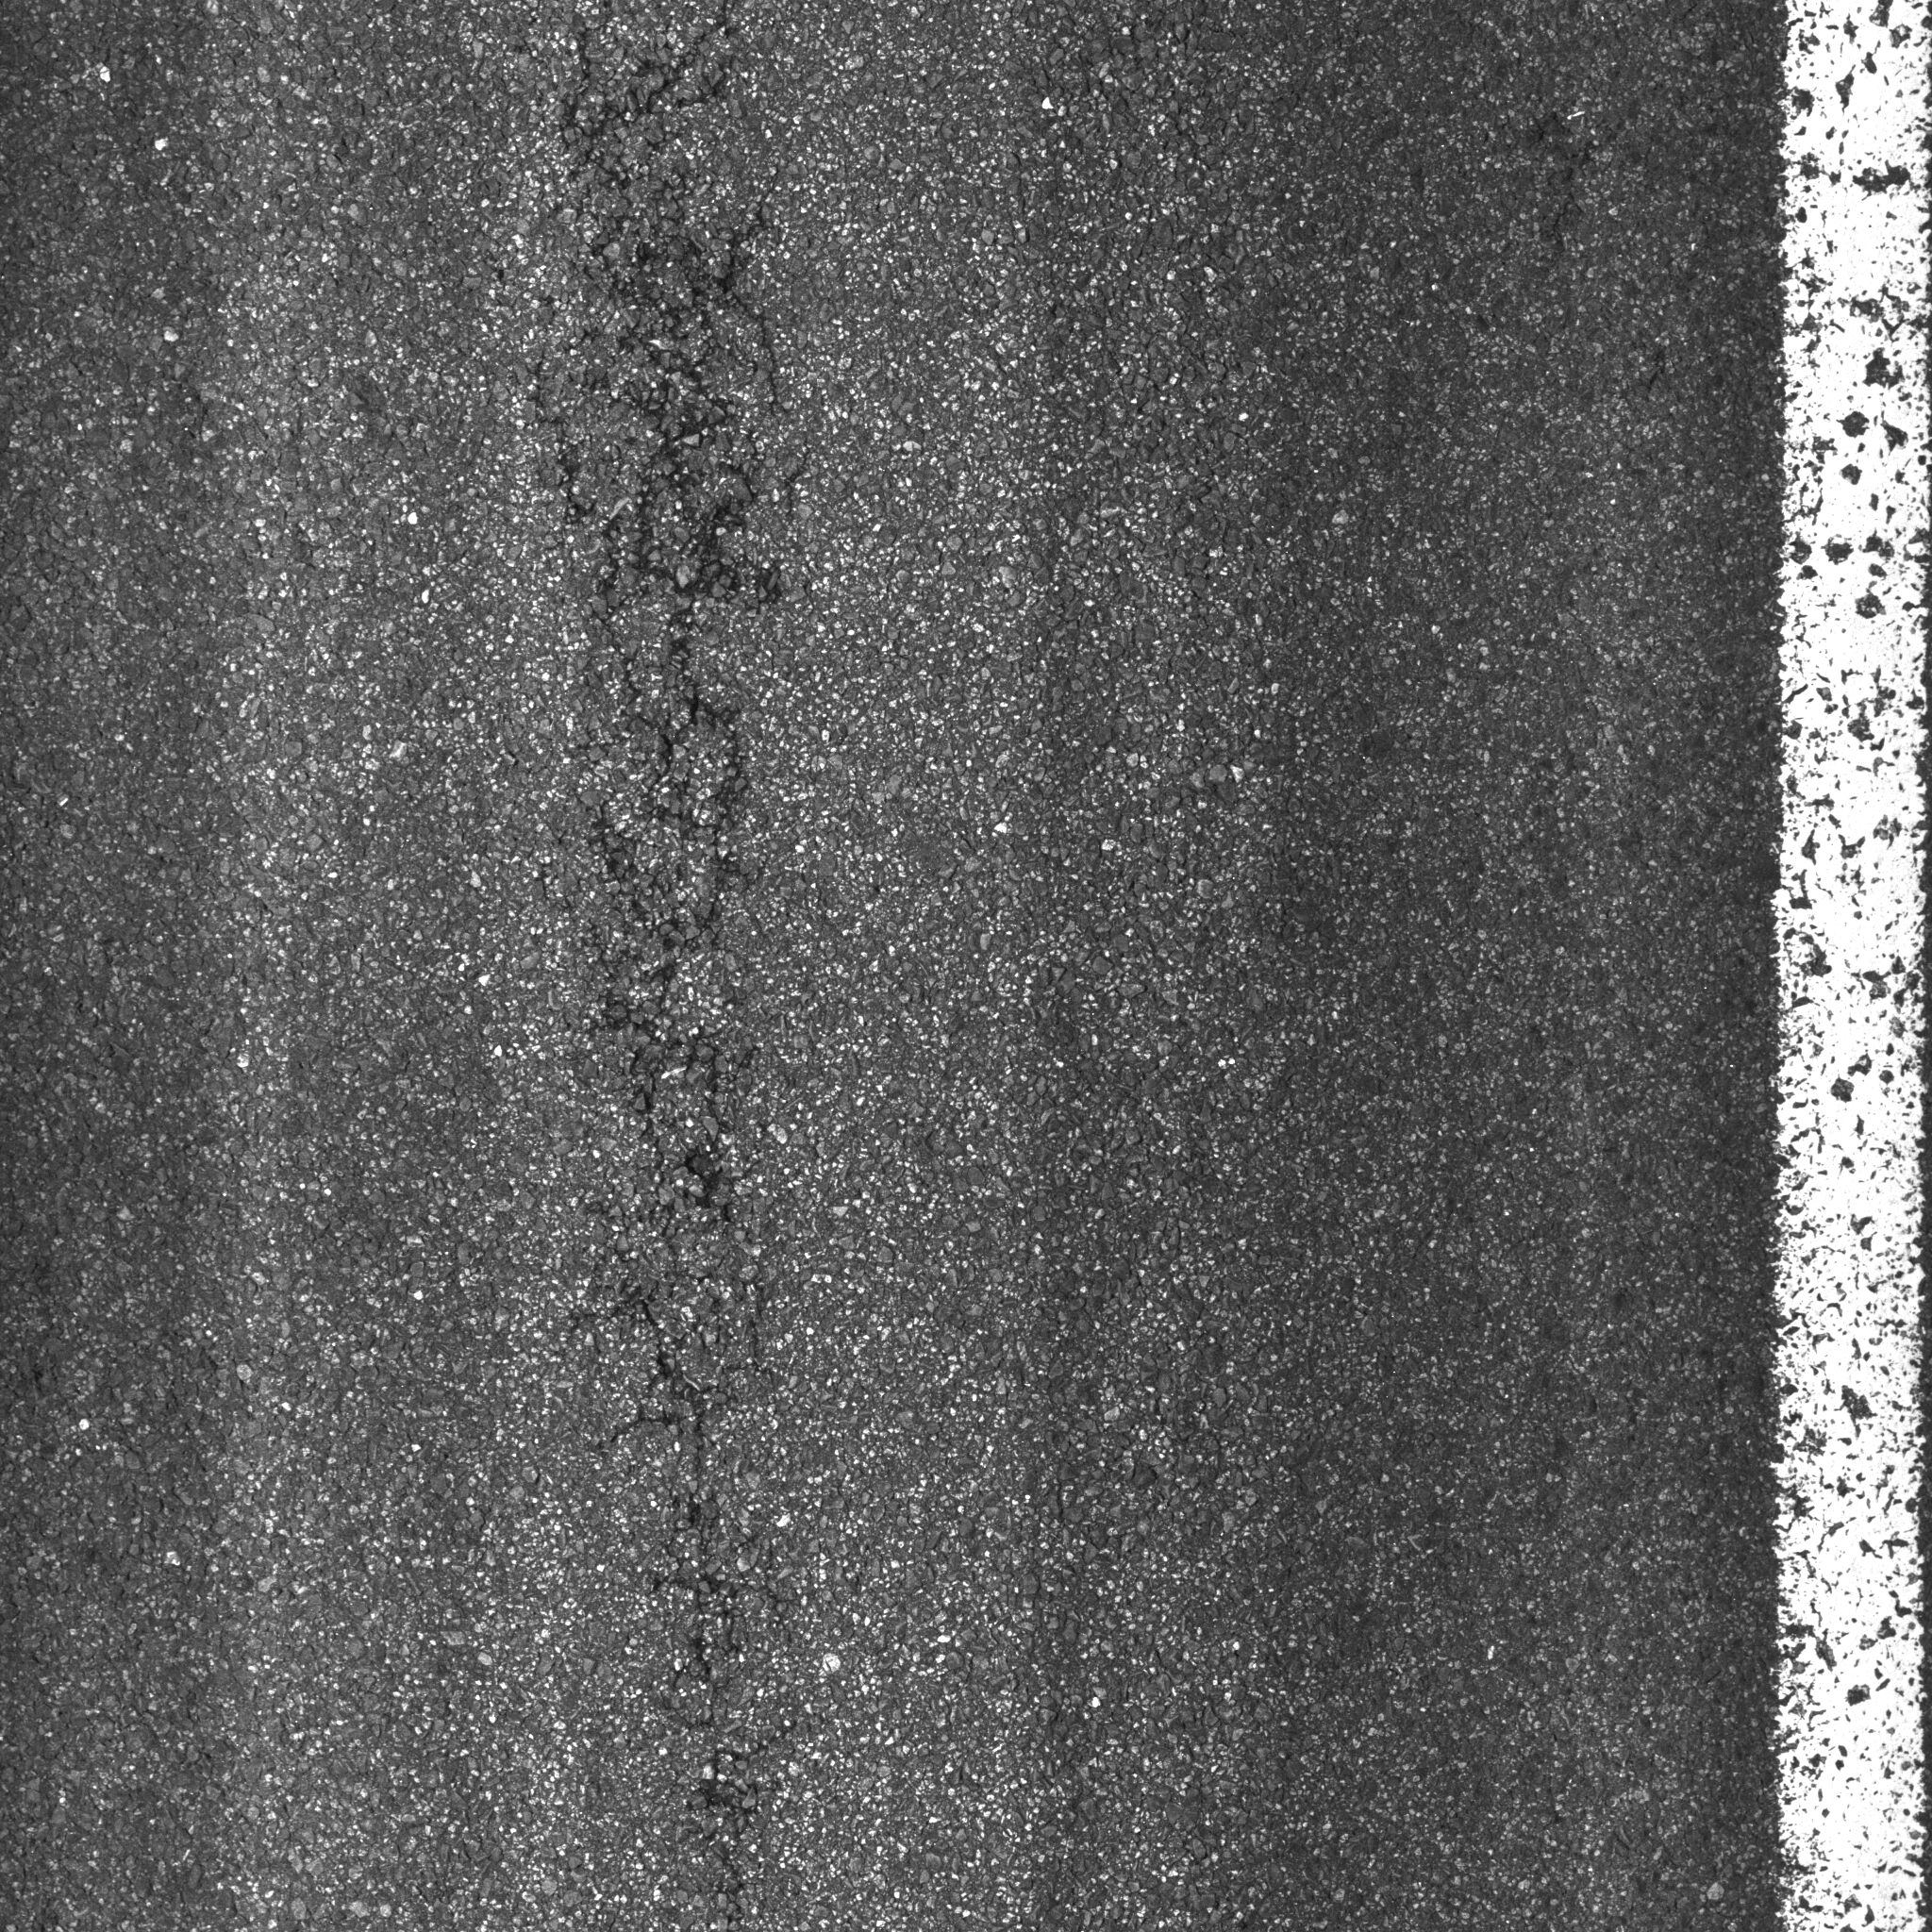longitudinal: (534, 9, 837, 1927)
